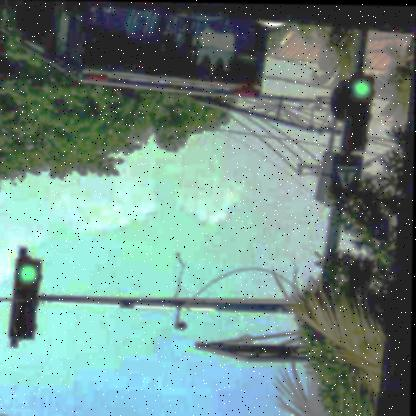Traffic Light -Green-: (343, 68, 379, 146), (15, 256, 47, 340)
